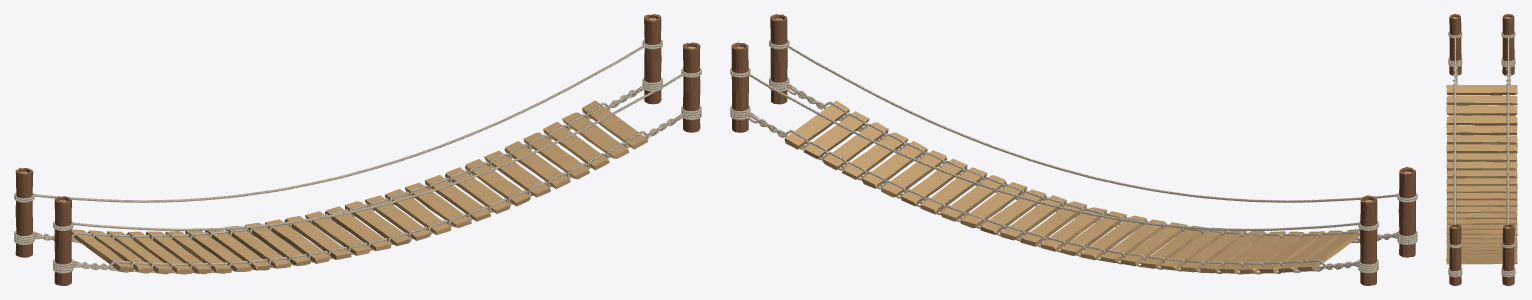
The model's file is OptimizedBridge.fbx.
The picture shows the model from 3 angles, left to right: view 1: azimuth 30°, elevation 25°; view 2: azimuth 150°, elevation 25°; view 3: azimuth 270°, elevation 25°; orthographic projection. The views are drawn at different scales.
Visible parts, largest first — view 1: Bridge, Bridge.001; view 2: Bridge, Bridge.001; view 3: Bridge, Bridge.001.
Part boxes in pixels (<box>): Bridge: <box>15,14,700,285</box>; Bridge.001: <box>14,39,701,274</box>; Bridge: <box>731,14,1415,285</box>; Bridge.001: <box>730,39,1417,274</box>; Bridge: <box>1446,14,1517,285</box>; Bridge.001: <box>1448,31,1515,277</box>.
Bounding box in the file's own units: 1635 × 309 × 228.
